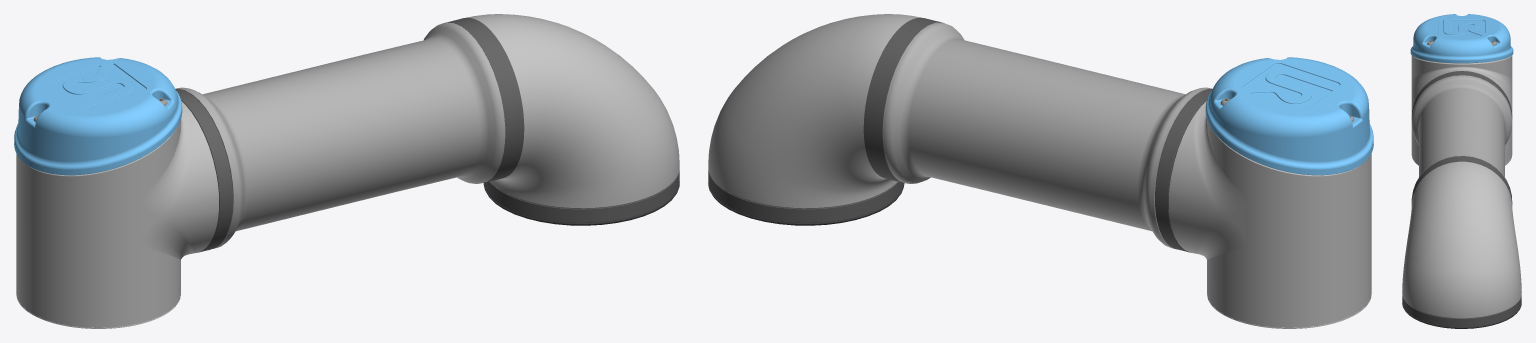
Rendered from Joint2.obj.
3 renders of one model, left to right at view 1: azimuth 30°, elevation 25°; view 2: azimuth 150°, elevation 25°; view 3: azimuth 270°, elevation 25°, orthographic. The views are drawn at different scales.
Visible parts, largest first — view 1: Solid2; view 2: Solid2; view 3: Solid2.
Boxes of the visible parts, bbox=[...] form: Solid2: bbox=[14, 14, 679, 327]; Solid2: bbox=[708, 14, 1373, 327]; Solid2: bbox=[1402, 14, 1521, 328].
Bounding box in the file's own units: 0.283 × 0.0931 × 0.075.
